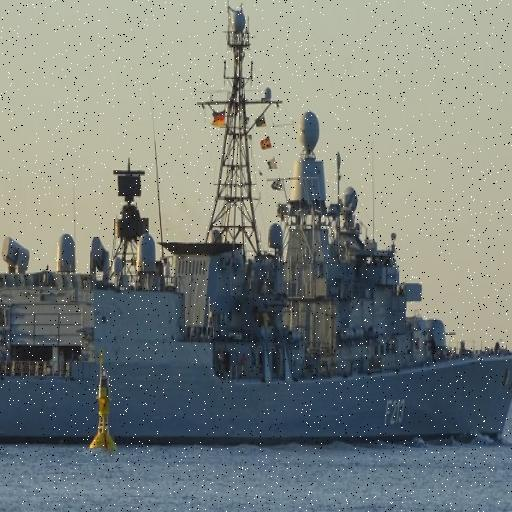Fragata: (1, 1, 512, 449)
